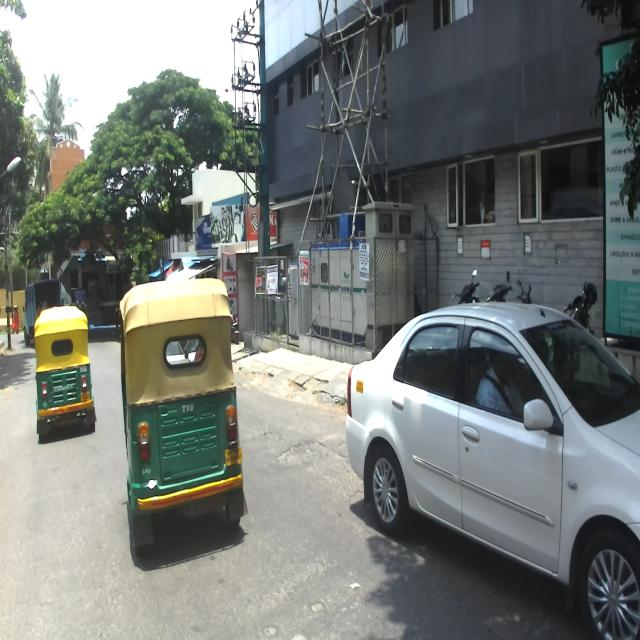auto ahead at: (122, 282, 245, 546), (30, 309, 94, 444)
car ahead at: (335, 297, 640, 632)
